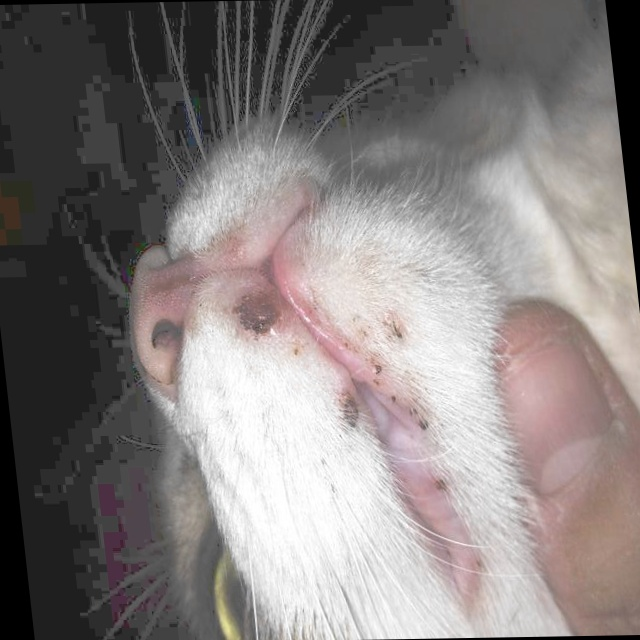acne: (336, 389, 361, 430), (383, 315, 414, 343)
